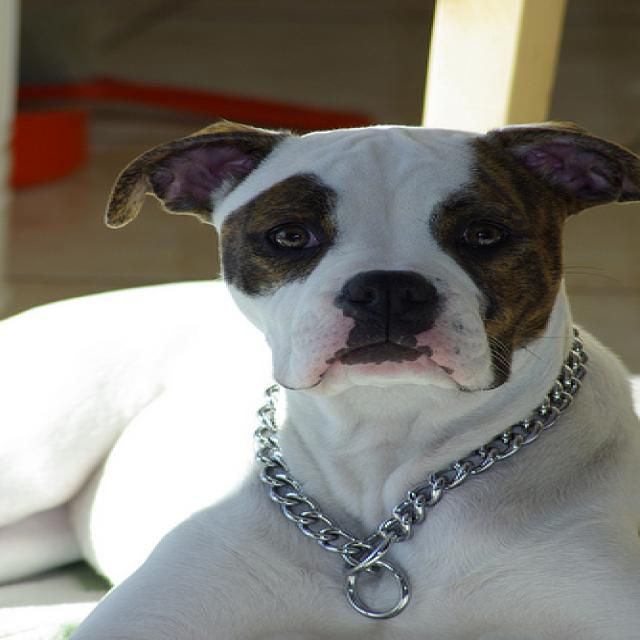dog-american_bulldog: (2, 111, 636, 637)
